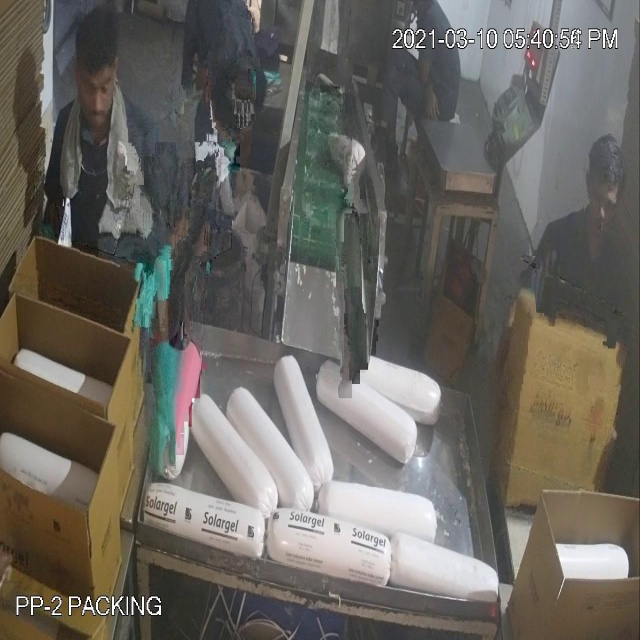Sin_guantes: (486, 284, 522, 453)
